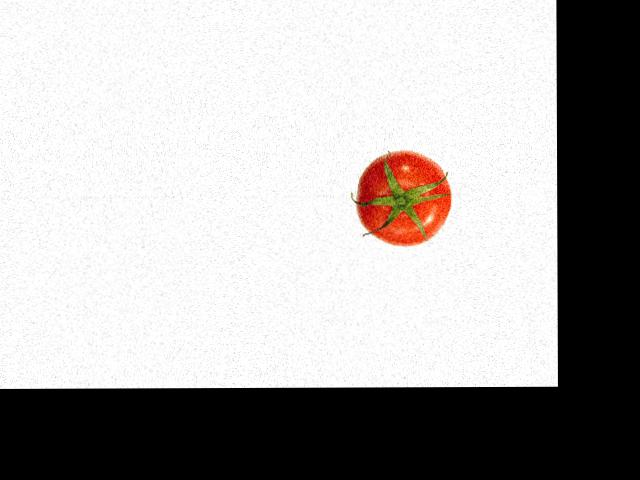tomato: (356, 150, 452, 246)
